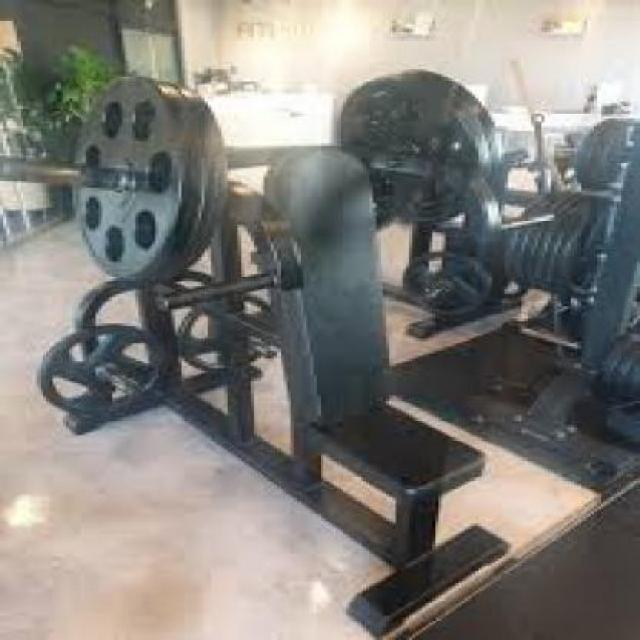shoulder press machine: (0, 58, 631, 640)
